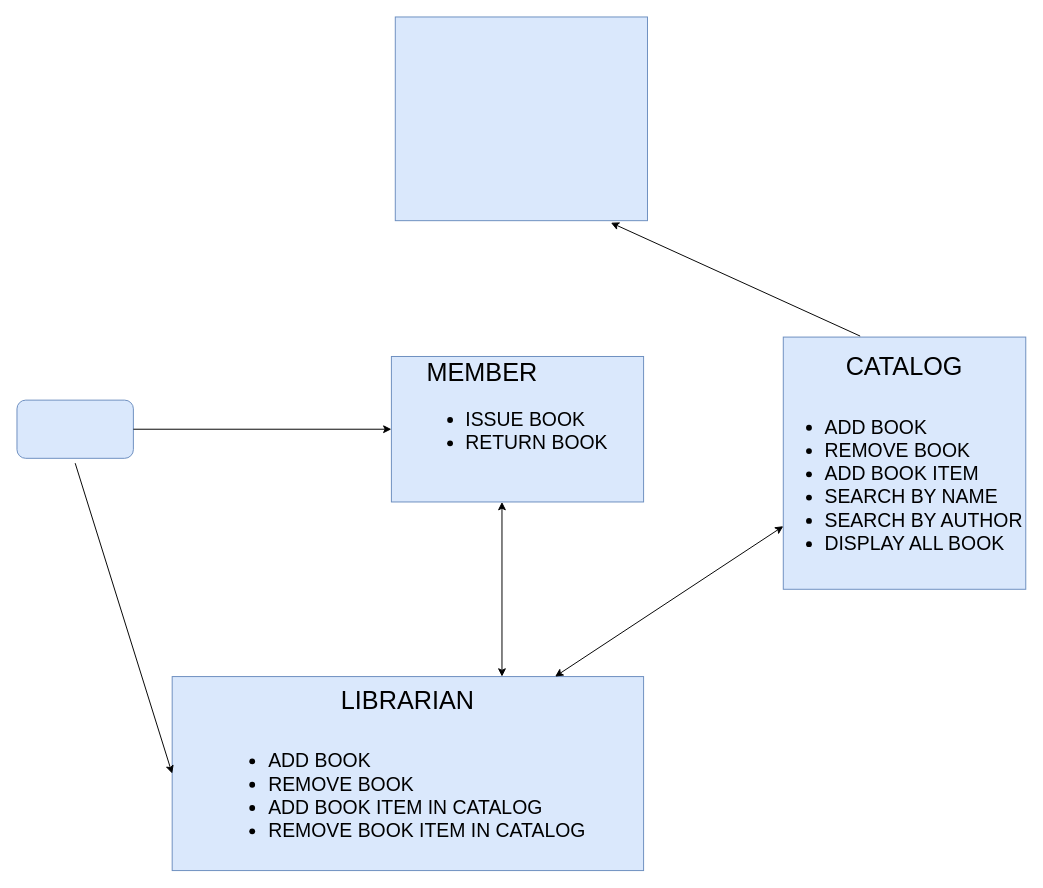
Image size: 1043x888. Some labels were removed from this diagram. Here are the shapes that lost their labels. From the top down, the centre of each, then its label:
At pixel 520 118: "BOOK ADD BOOK ITEM PRINT BOOK SEARCH BOOK ITEM REMOVE BOOK ITEM".
At pixel 74 428: "USER".
